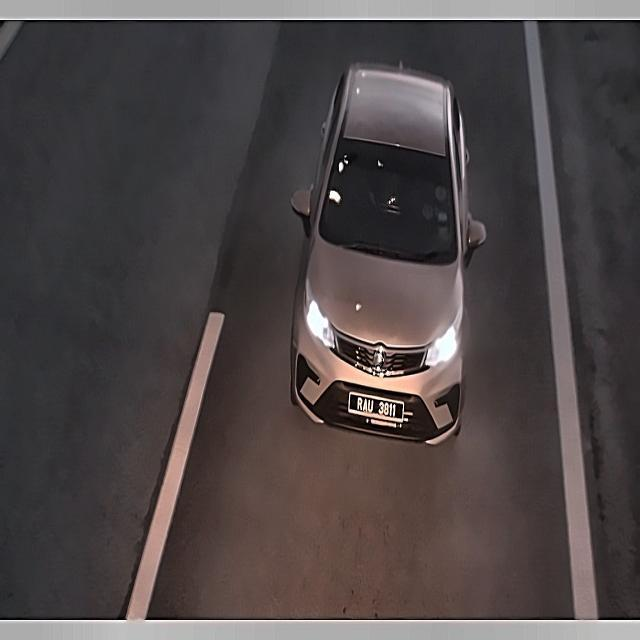car: (346, 392, 410, 423)
